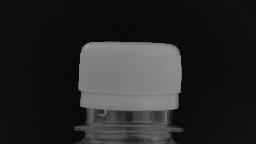Loose Cap: (66, 84, 186, 138)
